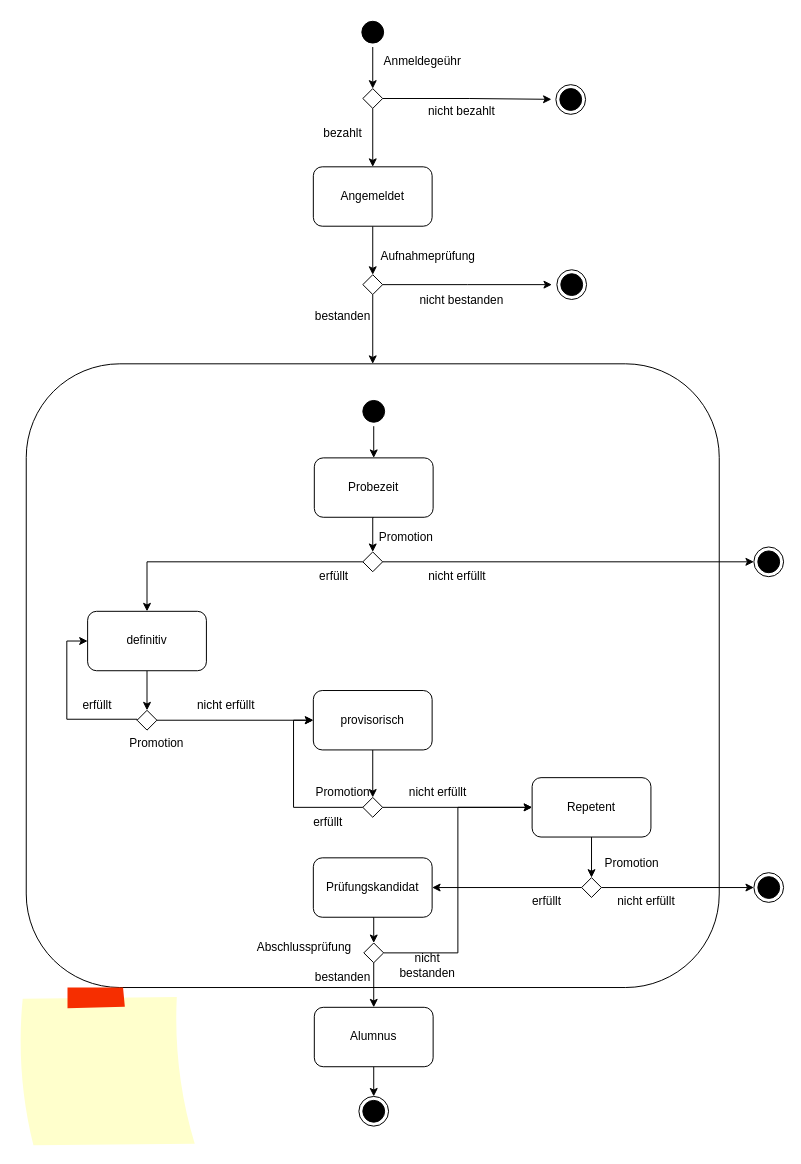
Image size: 801x1164. Some labels were removed from this diagram. The box of each missing label's shape, as (x1, y1, x2, y2) in pixels:
Aufgenommen: (25, 363, 719, 988)
Übergang definitiv Prüfungskandidat?: (16, 987, 197, 1147)
